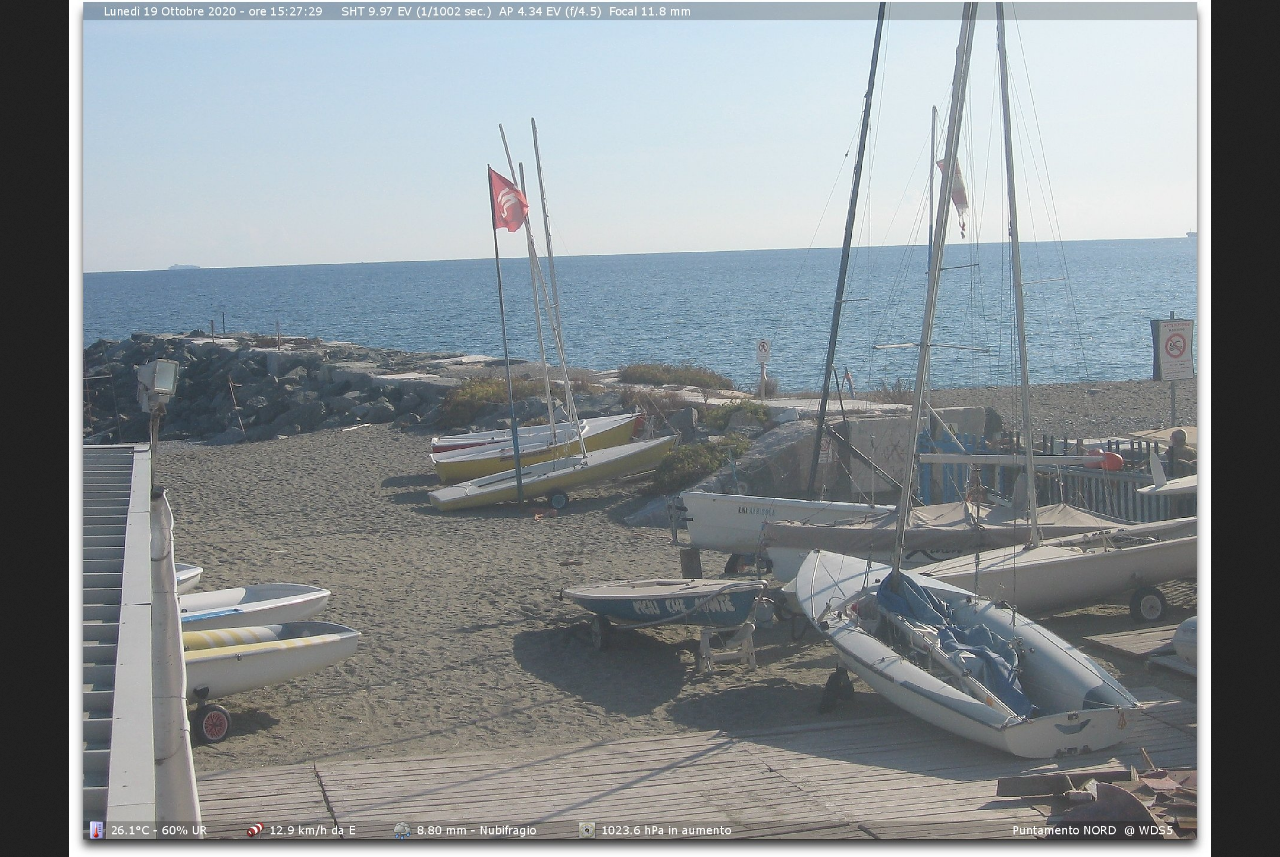maybe: (482, 162, 534, 235)
